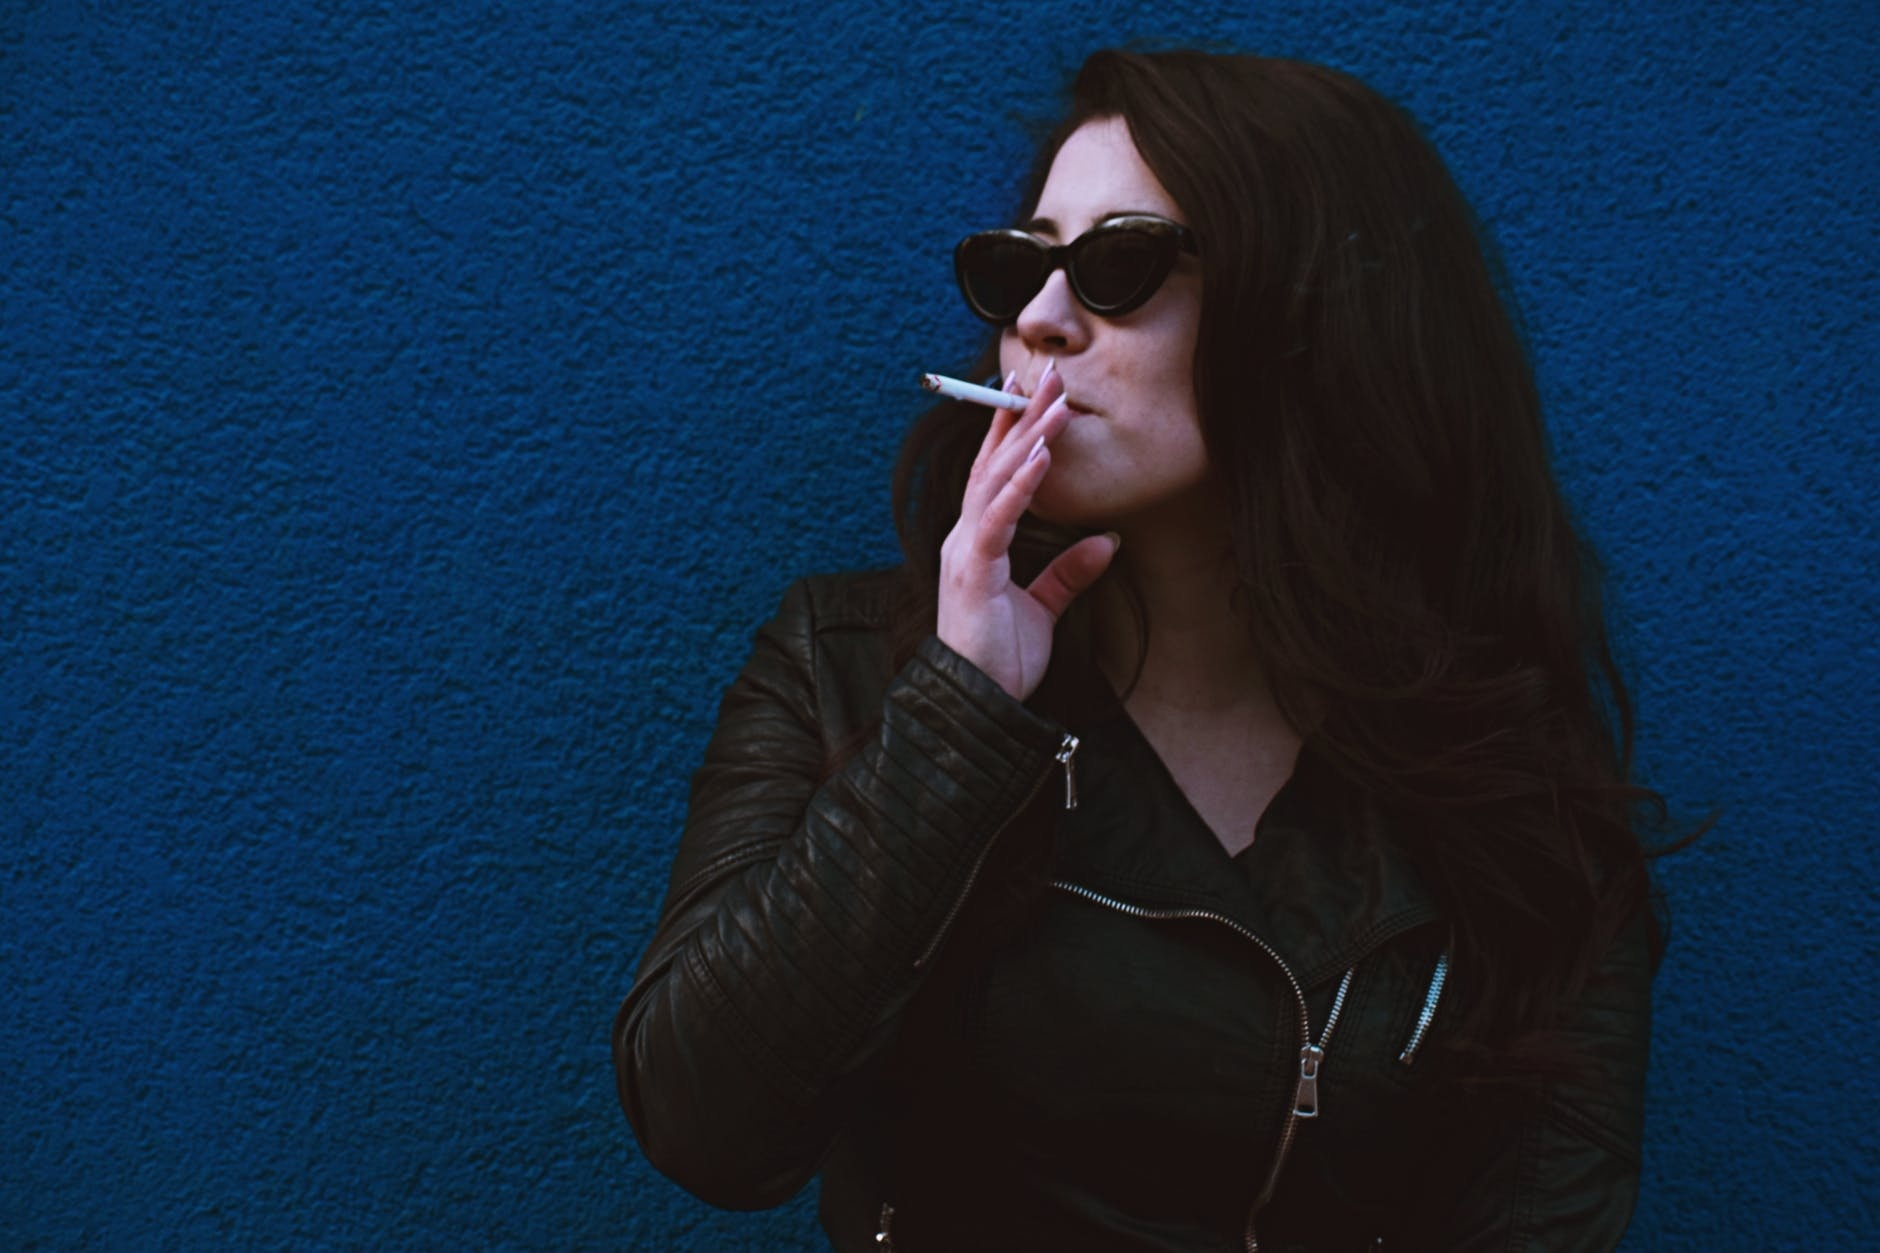sigaretta: (925, 371, 1068, 414)
